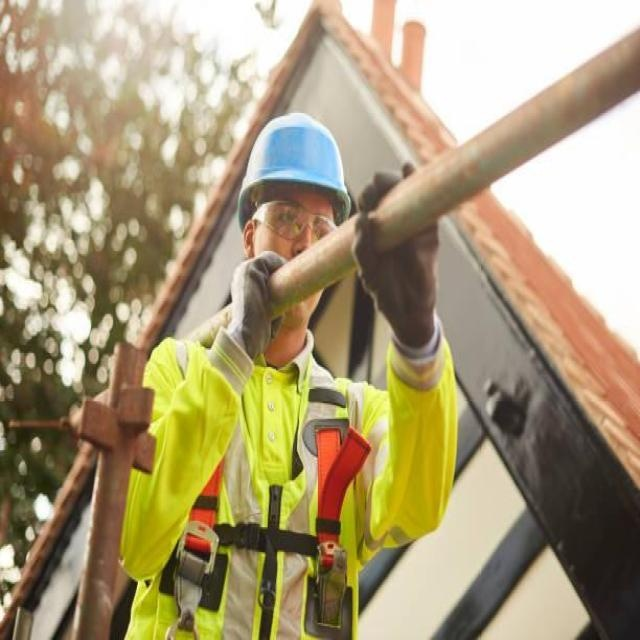Arnes_seguridad: (146, 315, 382, 640)
